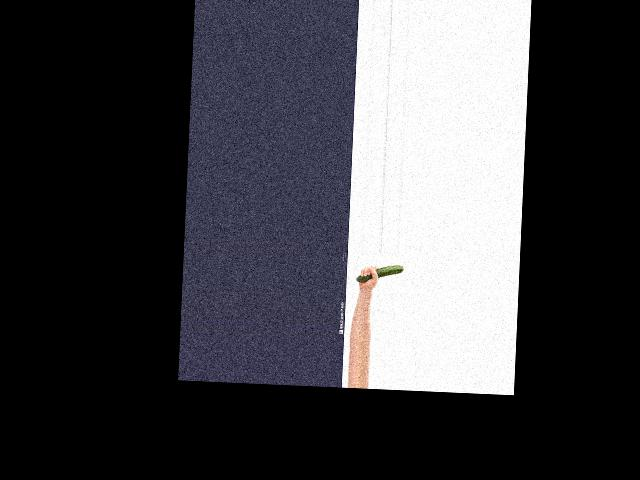cucumber: (356, 263, 403, 283)
